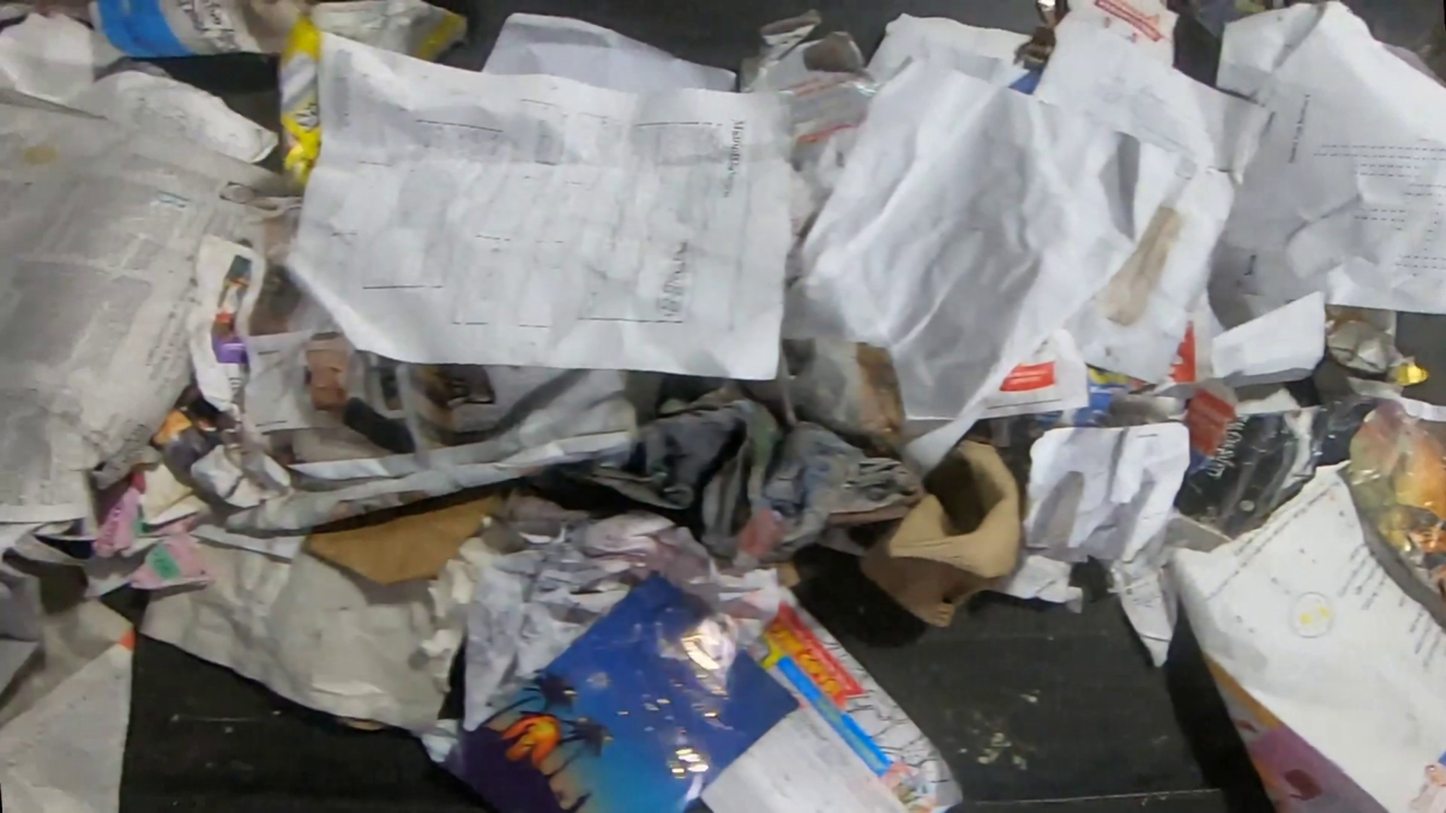cardboard: (856, 434, 1026, 630), (739, 9, 882, 172), (302, 479, 511, 586)
